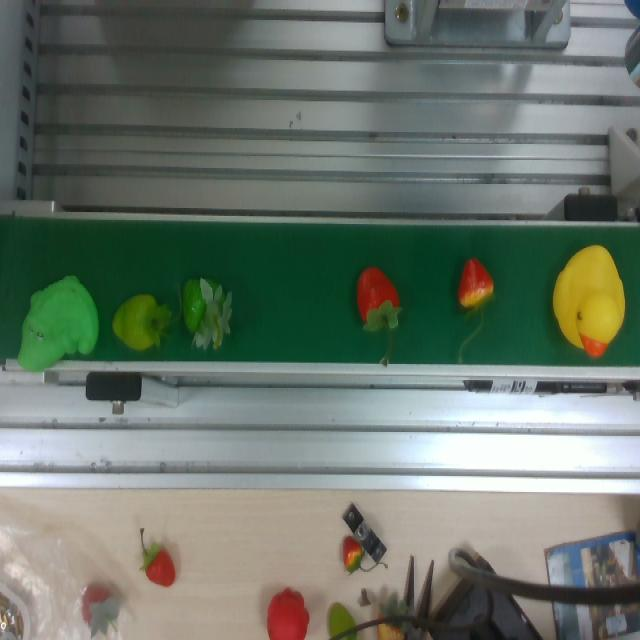None - Strawberry: (549, 242, 633, 361), (18, 267, 100, 377)
Small Ripe Strawberry: (350, 259, 417, 340)
Small Unripe Strawberry: (177, 271, 243, 352), (108, 284, 174, 356), (451, 254, 502, 322)
conveyor: (0, 211, 640, 385)
